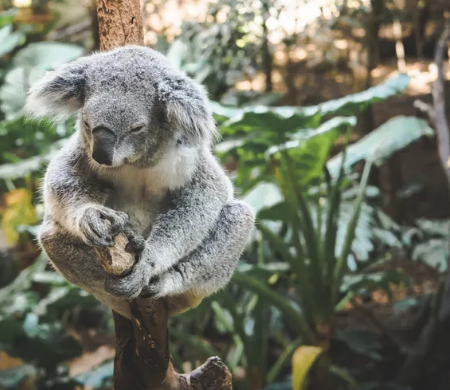koala: (27, 43, 258, 309)
